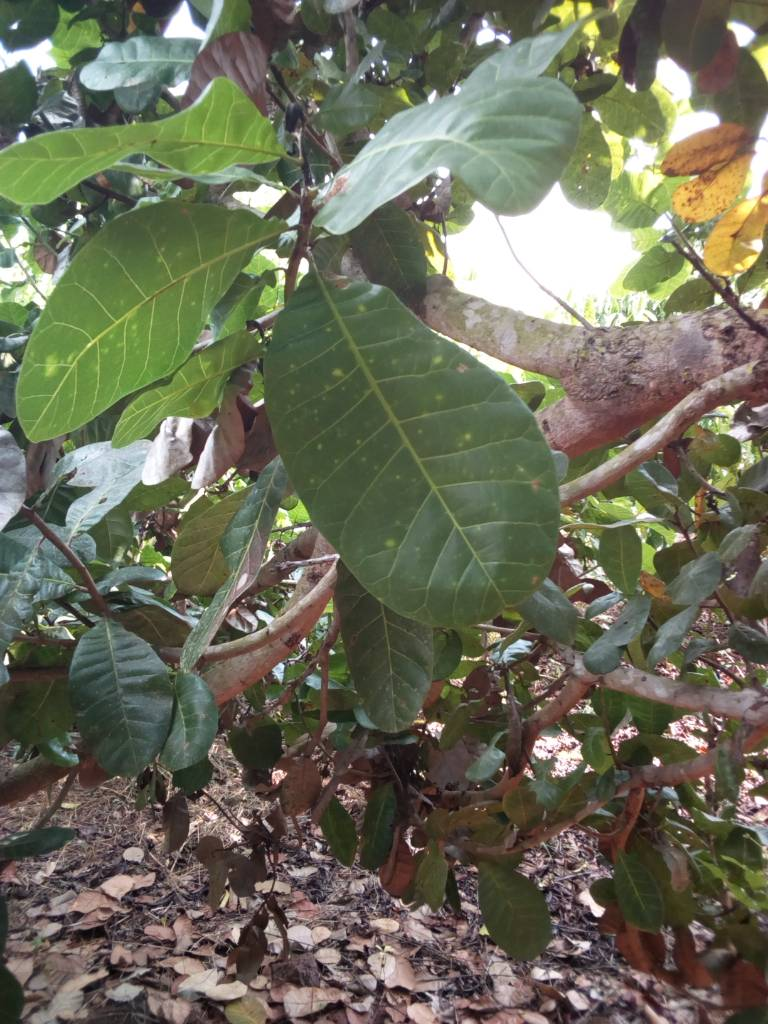Alternariose: (263, 283, 558, 625), (24, 199, 279, 419), (700, 188, 761, 274), (672, 158, 750, 225)
